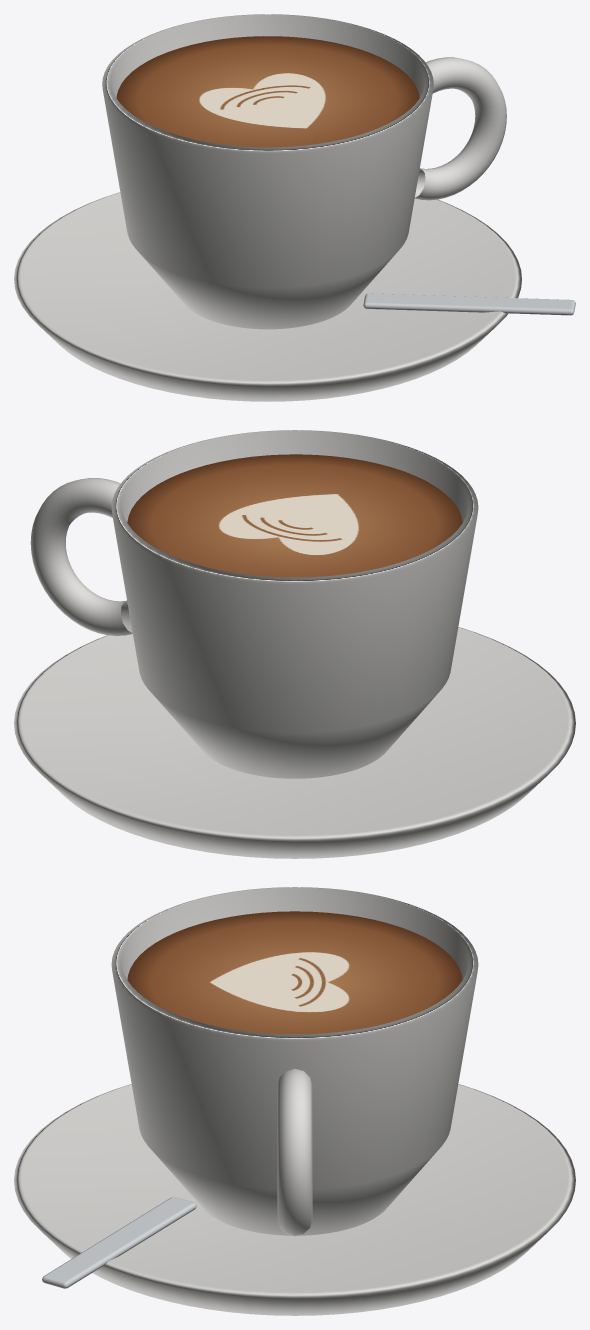
The model's file is latte.glb.
3 renders of one model, top to bottom at view 1: azimuth 30°, elevation 25°; view 2: azimuth 150°, elevation 25°; view 3: azimuth 270°, elevation 25°, orthographic. The views are drawn at different scales.
Size of the model in its own units: 0.1495 by 0.07 by 0.144.
3 materials, 1 textured.
